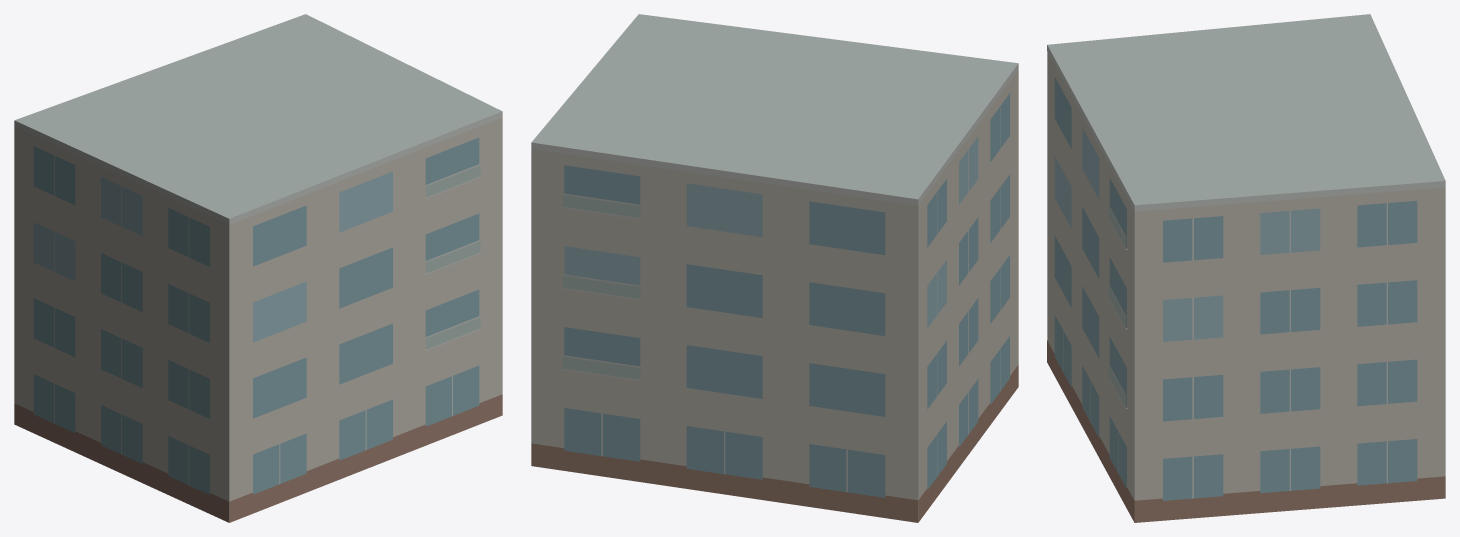
Rendered from survey-upis-33046005.glb.
3 renders of one model, left to right at view 1: azimuth 30°, elevation 25°; view 2: azimuth 150°, elevation 25°; view 3: azimuth 270°, elevation 25°, orthographic. The views are drawn at different scales.
Visible parts, largest first — view 1: survey-upis-33046005.tmp; view 2: survey-upis-33046005.tmp; view 3: survey-upis-33046005.tmp.
Boxes of the visible parts, <box> form: survey-upis-33046005.tmp: <box>14,14,502,522</box>; survey-upis-33046005.tmp: <box>531,14,1018,522</box>; survey-upis-33046005.tmp: <box>1047,14,1445,522</box>.
Bounding box in the file's own units: 15.78 × 12.2 × 13.89.
